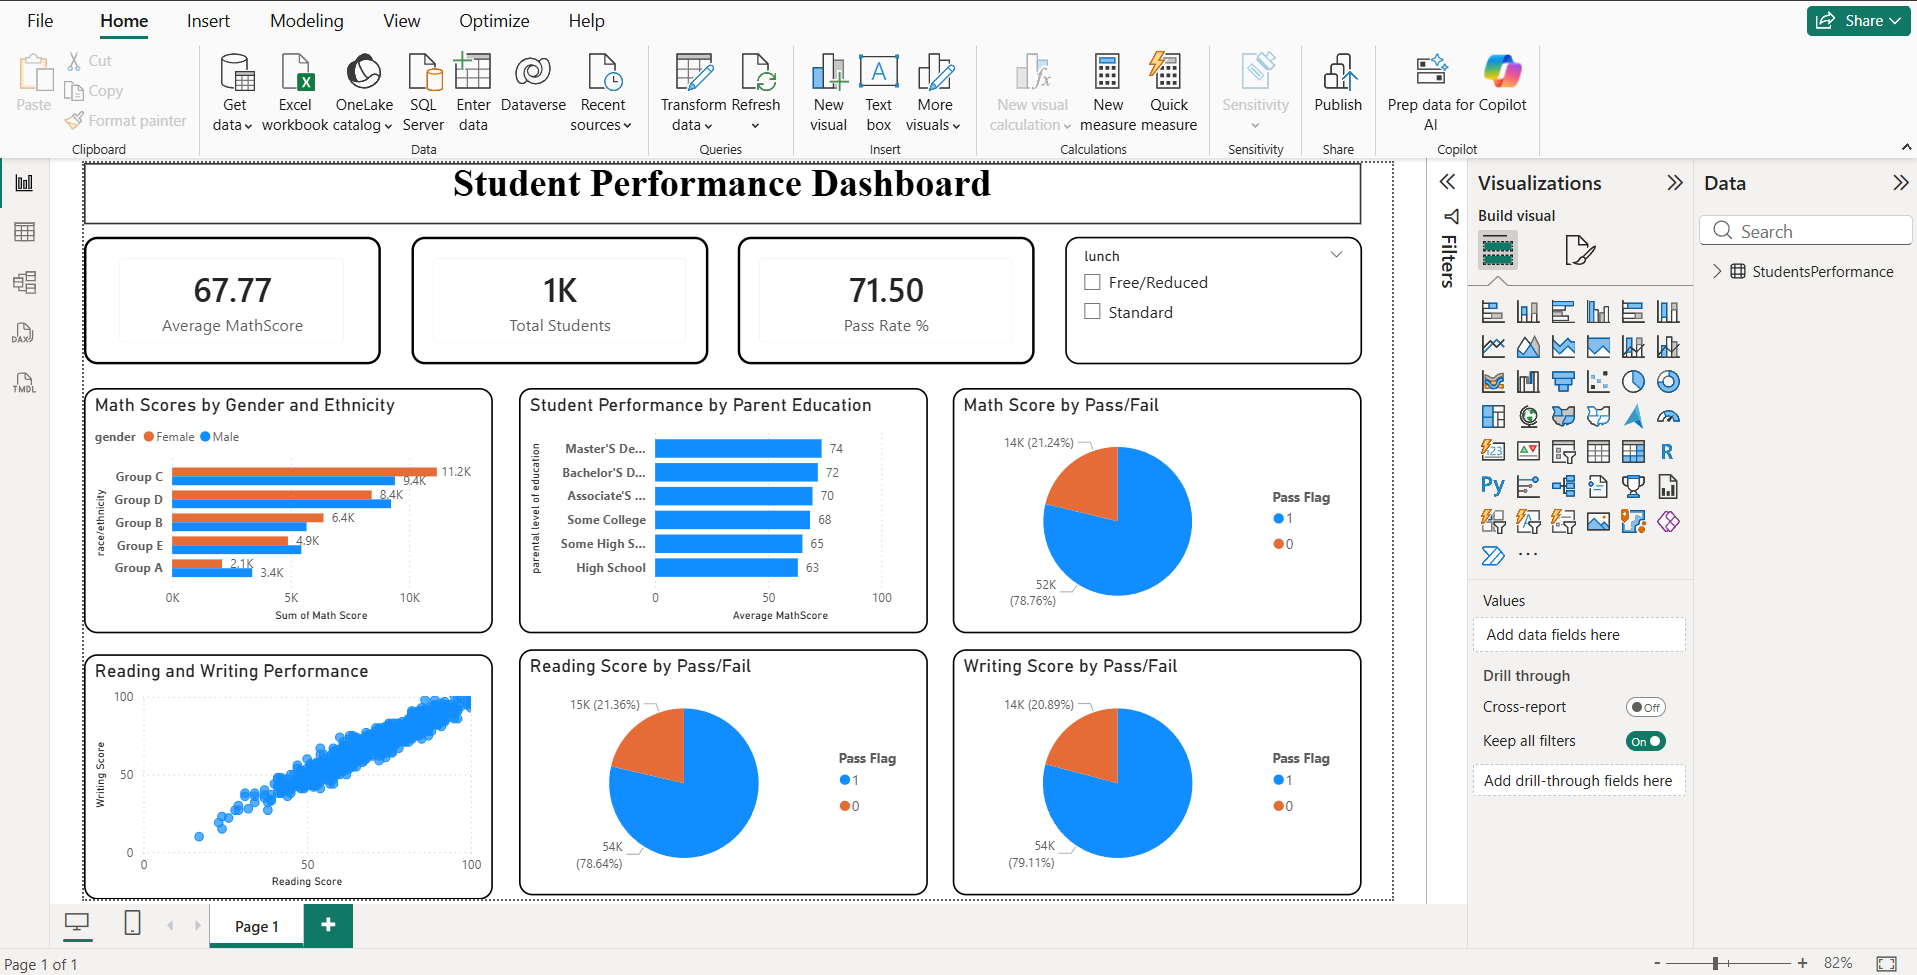

Layout of this report page (visuals, bound fields, positions):
{"tool":"powerbi","page":{"name":"Page 1","canvas":[1280,720],"ordinal":0},"visuals":[{"type":"cardVisual","fields":{"Data":["StudentsPerformance.Average Score"]},"box":[0,72,290,125],"z":0},{"type":"cardVisual","fields":{"Data":["StudentsPerformance.Total Students"]},"box":[320,72,290,125],"z":1000},{"type":"cardVisual","fields":{"Data":["StudentsPerformance.Pass Rate %"]},"box":[640,72,290,125],"z":2000},{"type":"clusteredBarChart","title":"Student Performance by Parent Education","fields":{"Category":["StudentsPerformance.parental level of education"],"Y":["StudentsPerformance.Average Score"]},"box":[425,220,400,240],"z":3000},{"type":"clusteredBarChart","title":"Math Scores by Gender and Ethnicity","fields":{"Category":["StudentsPerformance.race/ethnicity"],"Y":["Sum(StudentsPerformance.Math Score)"],"Series":["StudentsPerformance.gender"]},"box":[0,220,400,240],"z":4000},{"type":"pieChart","title":"Math Score by  Pass/Fail ","fields":{"Category":["StudentsPerformance.Pass Flag"],"Y":["Sum(StudentsPerformance.Math Score)"]},"box":[850,220.1,400,239.7],"z":5000},{"type":"scatterChart","title":"Reading and Writing Performance","fields":{"X":["StudentsPerformance.Reading Score"],"Y":["StudentsPerformance.Writing Score"]},"box":[0,480,400,240],"z":6000},{"type":"slicer","fields":{"Values":["StudentsPerformance.lunch"]},"box":[960,72,290,125],"z":7000},{"type":"textbox","box":[0,0,1249.7,59.9],"z":8000},{"type":"pieChart","title":"Reading Score by Pass/Fail","fields":{"Category":["StudentsPerformance.Pass Flag"],"Y":["Sum(StudentsPerformance.Reading Score)"]},"box":[425.5,475.7,399.9,240.9],"z":9000},{"type":"pieChart","title":" Writing Score by Pass/Fail","fields":{"Category":["StudentsPerformance.Pass Flag"],"Y":["Sum(StudentsPerformance.Writing Score)"]},"box":[849.9,475.7,399.9,240.9],"z":10000}]}

Visuals, with their boxes on the page's 1280x720 design canvas (x1, y1, x2, y2). These are canvas units, not pixel positions in the 1917x975 screenshot, which may show the page scaled, cropped or inside an application window:
cardVisual - StudentsPerformance.Average Score: (left=0, top=72, right=290, bottom=197)
cardVisual - StudentsPerformance.Total Students: (left=320, top=72, right=610, bottom=197)
cardVisual - StudentsPerformance.Pass Rate %: (left=640, top=72, right=930, bottom=197)
"Student Performance by Parent Education" clusteredBarChart: (left=425, top=220, right=825, bottom=460)
"Math Scores by Gender and Ethnicity" clusteredBarChart: (left=0, top=220, right=400, bottom=460)
"Math Score by  Pass/Fail " pieChart: (left=850, top=220, right=1250, bottom=460)
"Reading and Writing Performance" scatterChart: (left=0, top=480, right=400, bottom=720)
slicer - StudentsPerformance.lunch: (left=960, top=72, right=1250, bottom=197)
textbox: (left=0, top=0, right=1250, bottom=60)
"Reading Score by Pass/Fail" pieChart: (left=426, top=476, right=825, bottom=717)
" Writing Score by Pass/Fail" pieChart: (left=850, top=476, right=1250, bottom=717)
